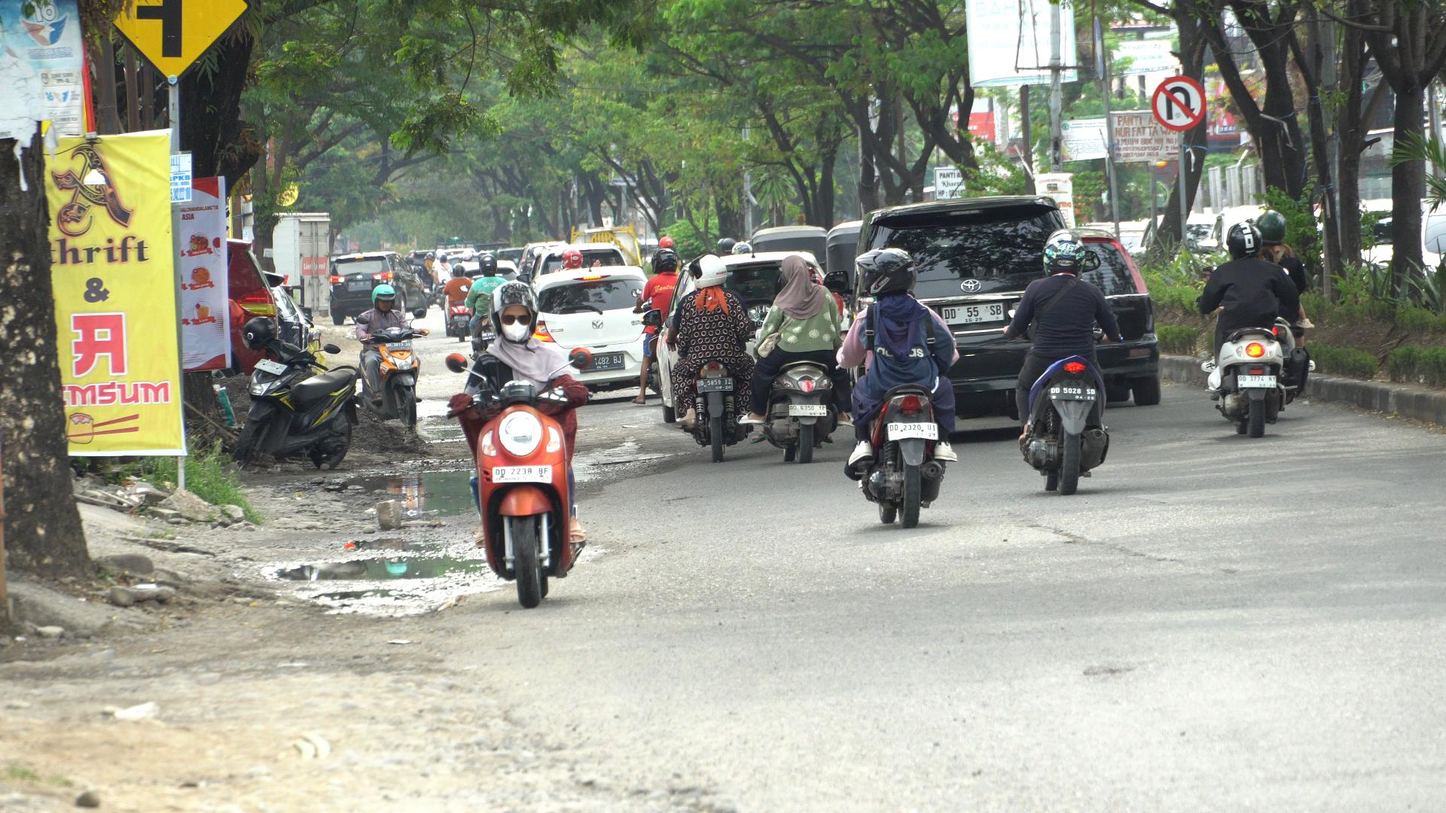number-plate: (491, 465, 555, 485)
